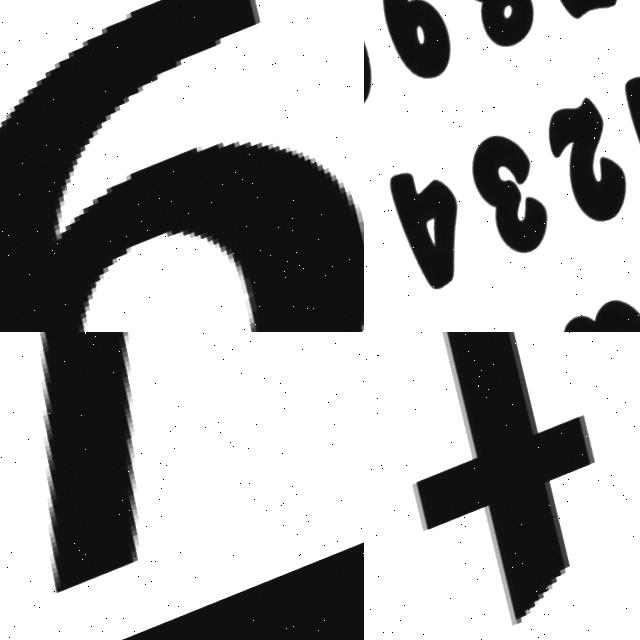0: (364, 0, 419, 163)
1: (607, 59, 640, 227)
2: (527, 85, 640, 251)
3: (450, 112, 588, 286)
4: (364, 128, 520, 332)
7: (510, 0, 640, 56)
8: (428, 0, 576, 86)
9: (0, 0, 364, 332), (364, 0, 489, 114)
L: (0, 332, 303, 610)
T: (364, 332, 640, 640)
